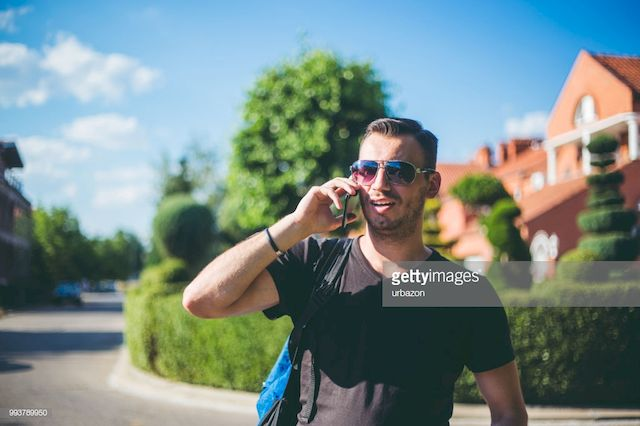phone: (334, 182, 368, 235)
talk: (306, 157, 422, 241)
